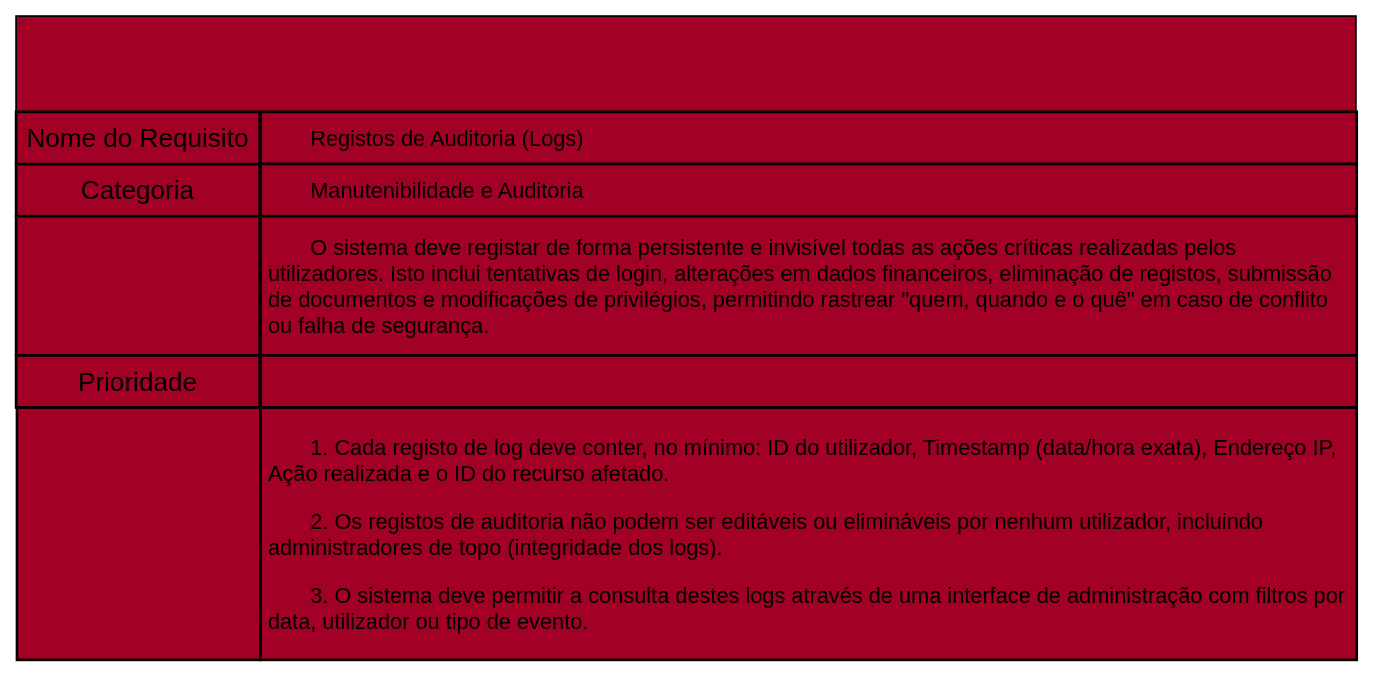
Some shapes in this 1373 by 676 pixel diagram are drawn without their labels. The shapes that lost their labels are listed below. From the top down, each one's box as (x1, y1, x2, y2) in pixels, then its label:
(15, 15, 1356, 112): RNF-13
(14, 214, 261, 356): Descrição
(259, 354, 1358, 408): Alta
(15, 406, 261, 661): Critério de Verificação
